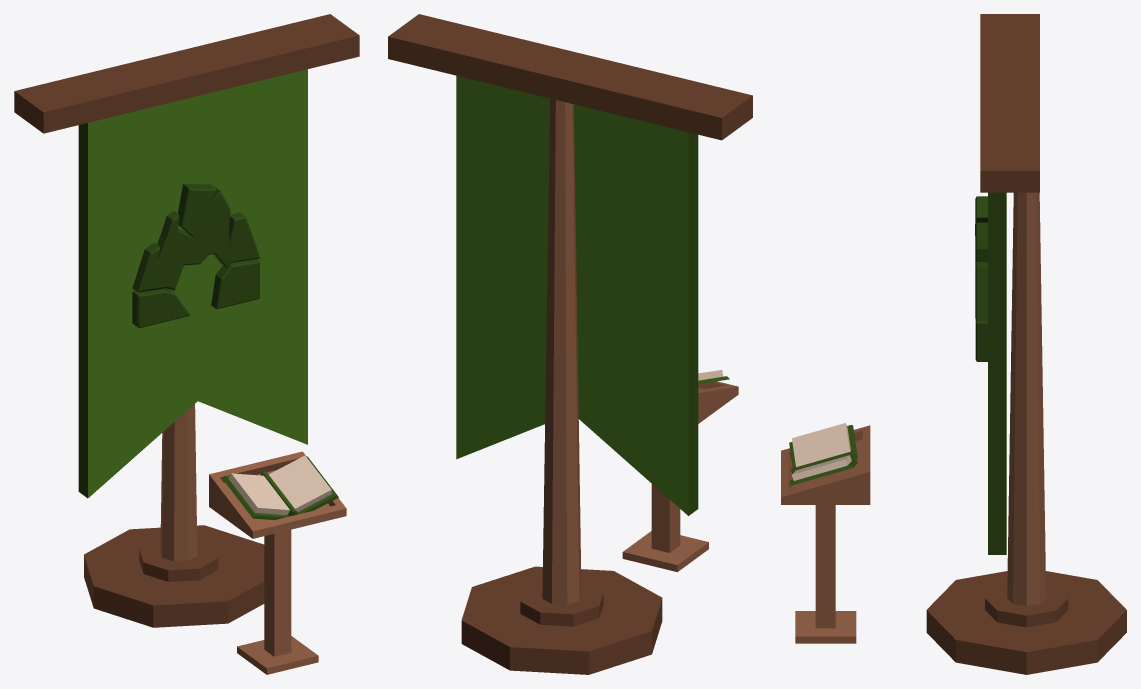
Rendered from EstandardeVerde.fbx.
3 views of the same model, side by side, from view 1: azimuth 30°, elevation 25°; view 2: azimuth 150°, elevation 25°; view 3: azimuth 270°, elevation 25° (orthographic). The views are drawn at different scales.
Parts seen in each view (by area): view 1: EstandardeVerde; view 2: EstandardeVerde; view 3: EstandardeVerde.
Boxes of the visible parts, box(x1,y1,x2,y2) form: EstandardeVerde: box(14, 14, 359, 674); EstandardeVerde: box(388, 14, 752, 674); EstandardeVerde: box(781, 14, 1126, 674).
Size of the model in its own units: 223 by 357 by 207.
